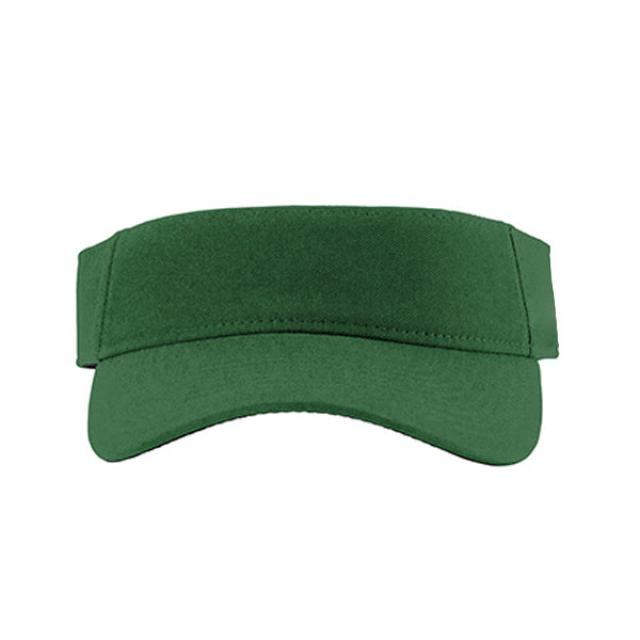mask: (63, 176, 577, 474)
